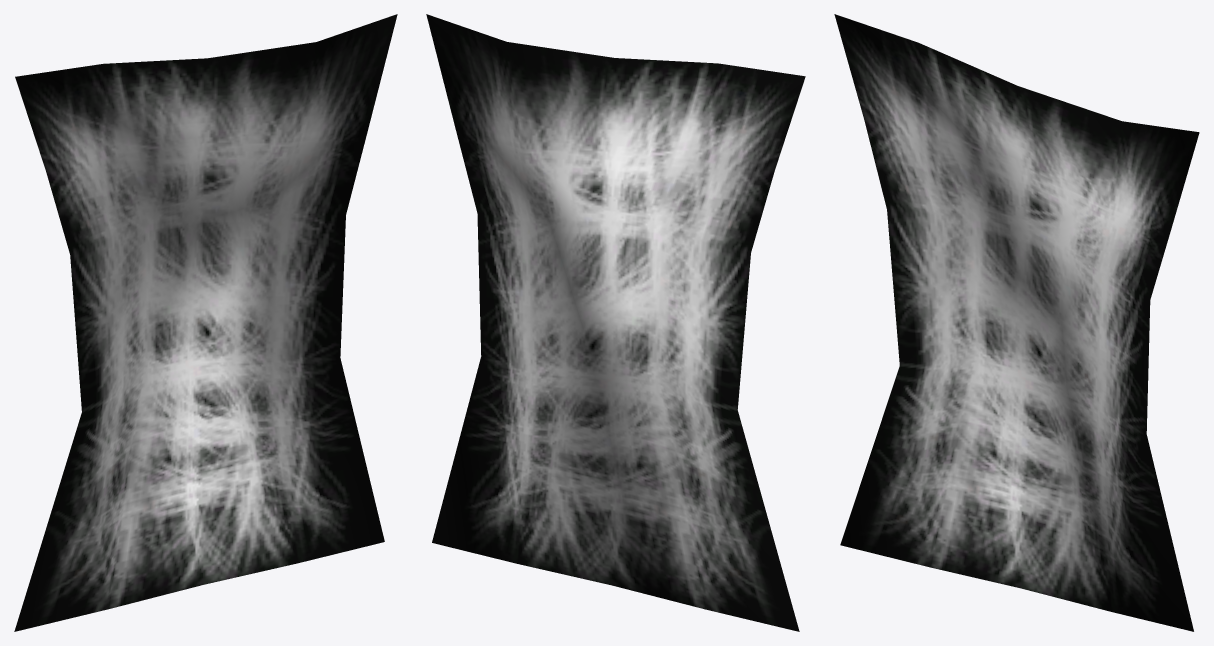
File: INST_SWORDLIGHT_CLIMBWEB.fbx
3 views of the same model, side by side, from view 1: azimuth 30°, elevation 25°; view 2: azimuth 150°, elevation 25°; view 3: azimuth 330°, elevation 25° (orthographic). The views are drawn at different scales.
Parts seen in each view (by area): view 1: INST_SWORDLIGHT_CLIMBWEB; view 2: INST_SWORDLIGHT_CLIMBWEB; view 3: INST_SWORDLIGHT_CLIMBWEB.
Boxes of the visible parts, <box> form: INST_SWORDLIGHT_CLIMBWEB: <box>14,14,397,631</box>; INST_SWORDLIGHT_CLIMBWEB: <box>426,14,805,631</box>; INST_SWORDLIGHT_CLIMBWEB: <box>834,14,1199,631</box>.
Bounding box in the file's own units: 20369 × 28436 × 1075.
1 material, 1 textured.
